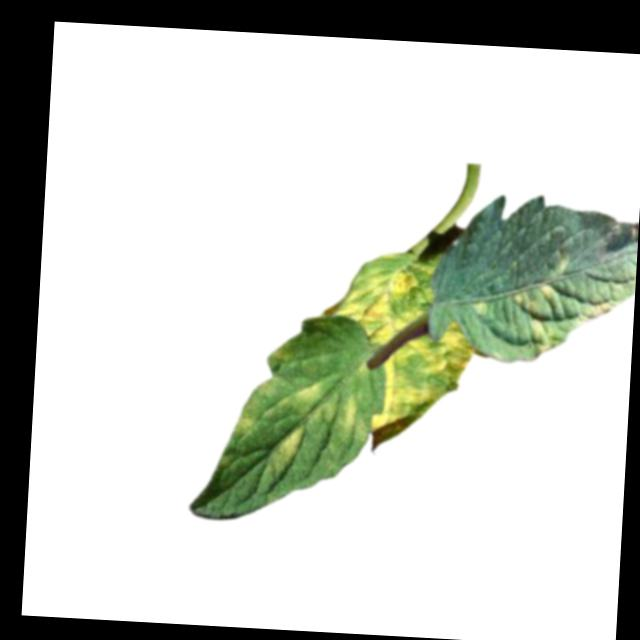Leaf_Mold: (367, 314, 475, 455), (507, 253, 617, 359), (324, 249, 442, 347), (281, 378, 372, 440), (271, 424, 306, 474), (230, 410, 267, 440)
